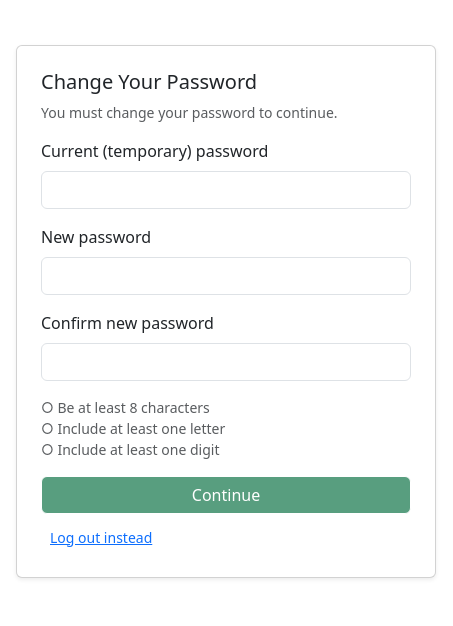
Test: ChangePassword › submits the new password and shows a safe error on failure
The image size is (453, 626).
In the password field labelled "Current (temporary) password": (226, 190) x1=41 y1=170 x2=411 y2=208, type "WrongOne1"
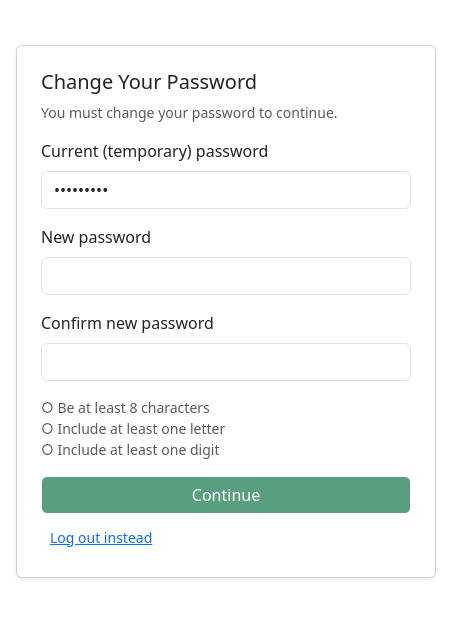
In the password field labelled "New password": (226, 276) x1=41 y1=256 x2=411 y2=294, type "NewPassword123"
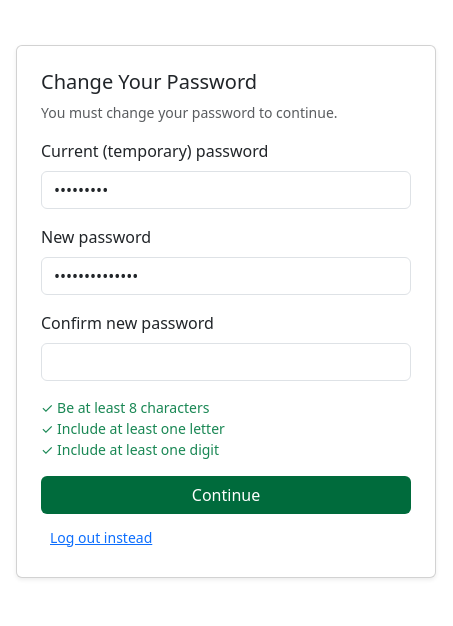
In the password field labelled "Confirm new password": (226, 362) x1=41 y1=342 x2=411 y2=380, type "NewPassword123"
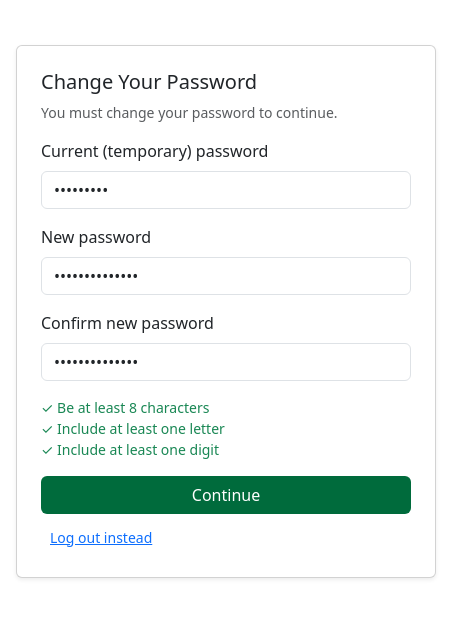
Click the button "Continue": (226, 494) x1=41 y1=476 x2=411 y2=514
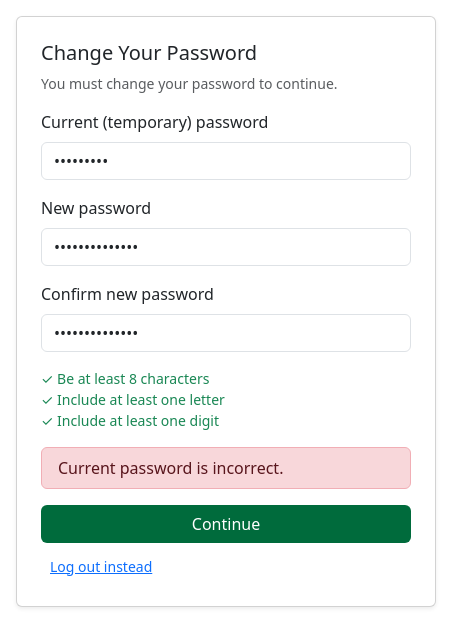
Check: the text "Current password is incorrect." is shown, box x1=41 y1=446 x2=411 y2=488
